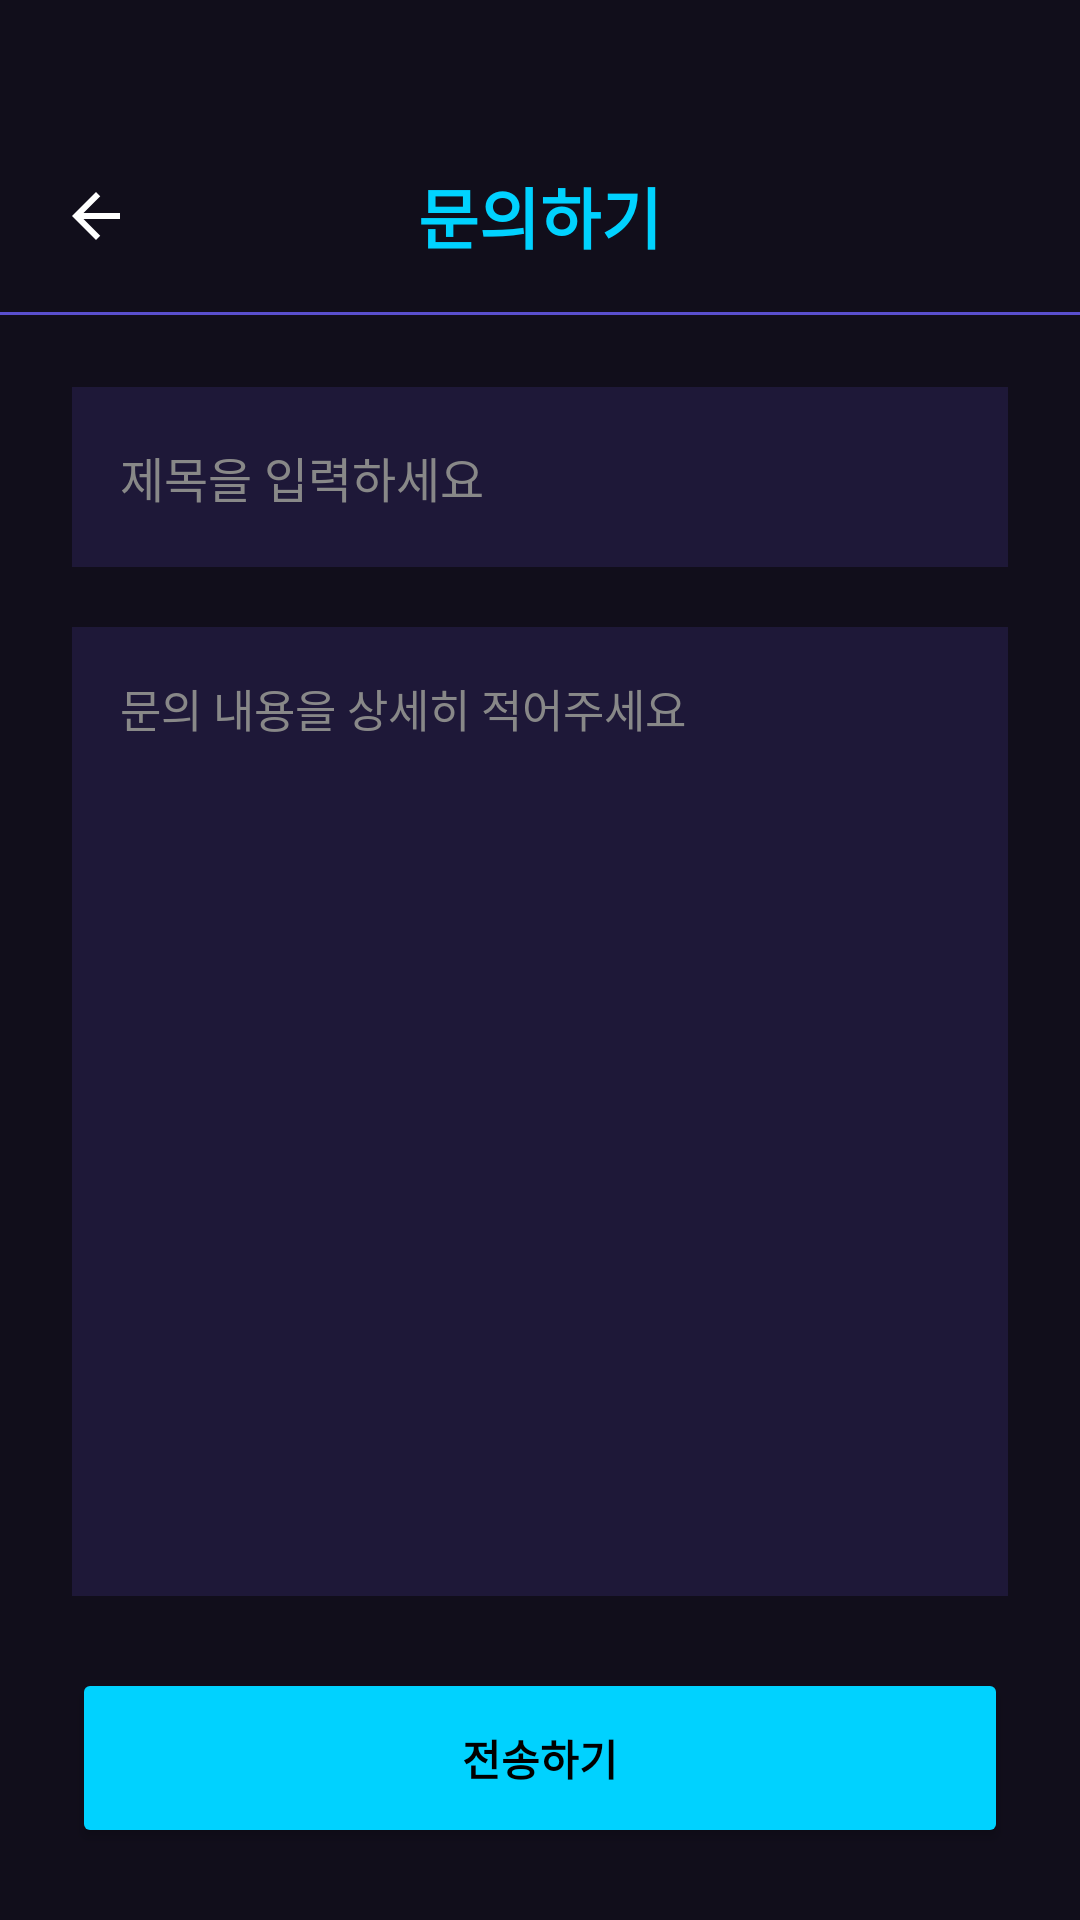

Icon click points for this 1080 × 1920 phone screenshot, format point (x, y):
back: point (96, 216)
